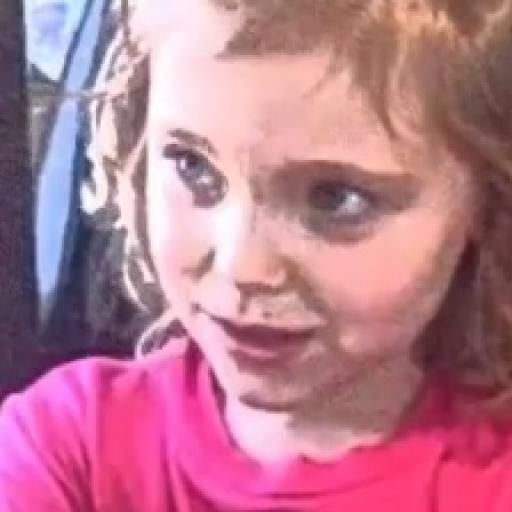Autism: (64, 0, 512, 435)
